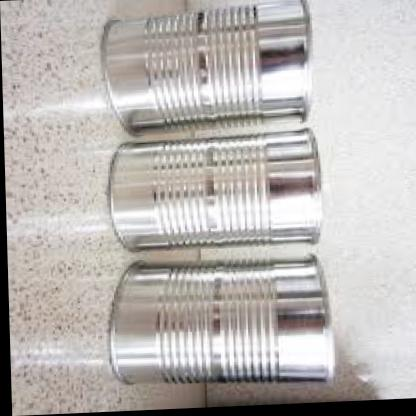Metal: (85, 253, 346, 397), (82, 0, 336, 134), (89, 131, 345, 259)
